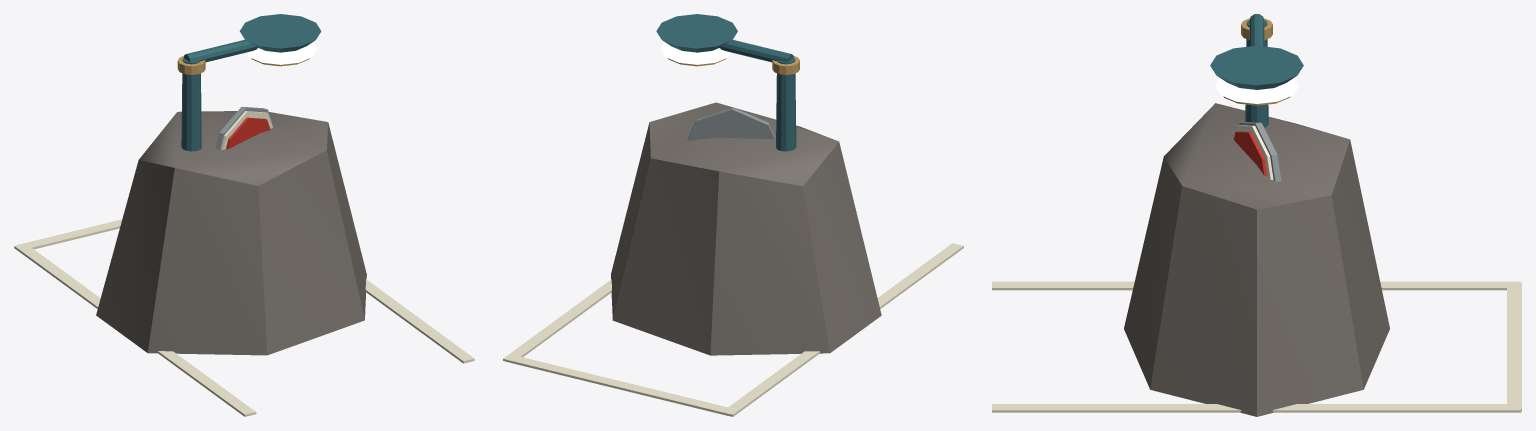
File: props_vicecity.fbx
3 views of the same model, side by side, from view 1: azimuth 30°, elevation 25°; view 2: azimuth 150°, elevation 25°; view 3: azimuth 270°, elevation 25° (orthographic). The views are drawn at different scales.
Visible parts, largest first — view 1: Sea_worn_boulder_0_mesh, Lamp_cap, Parking_left, Tapered_post, Parking_right, Parking_back, Arm, Warm_diffuser, Stop_red_face, Stop_ivory_border, Stop_steel_edge; view 2: Sea_worn_boulder_0_mesh, Lamp_cap, Parking_left, Parking_back, Stop_steel_edge, Tapered_post, Parking_right, Arm, Warm_diffuser; view 3: Sea_worn_boulder_0_mesh, Parking_right, Lamp_cap, Parking_left, Parking_back, Warm_diffuser, Stop_red_face, Tapered_post, Stop_steel_edge, Arm.
Boxes of the visible parts, x1,y1,x2,y2 form: Sea_worn_boulder_0_mesh: [96, 111, 366, 355]; Lamp_cap: [239, 14, 321, 52]; Parking_left: [14, 243, 256, 416]; Tapered_post: [181, 57, 201, 151]; Parking_right: [365, 279, 474, 363]; Parking_back: [17, 219, 122, 249]; Arm: [184, 39, 257, 62]; Warm_diffuser: [246, 42, 316, 64]; Stop_red_face: [226, 117, 270, 149]; Stop_ivory_border: [221, 111, 272, 149]; Stop_steel_edge: [215, 106, 273, 149]; Sea_worn_boulder_0_mesh: [611, 102, 881, 355]; Lamp_cap: [656, 14, 737, 52]; Parking_left: [723, 243, 963, 416]; Parking_back: [505, 355, 735, 416]; Stop_steel_edge: [687, 107, 774, 140]; Tapered_post: [776, 57, 796, 151]; Parking_right: [503, 279, 611, 361]; Arm: [719, 40, 793, 62]; Warm_diffuser: [660, 42, 731, 64]; Sea_worn_boulder_0_mesh: [1124, 103, 1389, 416]; Parking_right: [992, 404, 1521, 412]; Lamp_cap: [1210, 45, 1303, 89]; Parking_left: [992, 281, 1521, 290]; Parking_back: [1507, 283, 1521, 411]; Warm_diffuser: [1215, 78, 1298, 103]; Stop_red_face: [1233, 131, 1267, 175]; Tapered_post: [1245, 20, 1268, 127]; Stop_steel_edge: [1239, 122, 1281, 182]; Arm: [1249, 14, 1264, 46].
Bounding box in the file's own units: 3.25 × 3.35 × 5.31.
